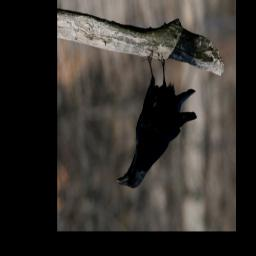Crow: (116, 48, 197, 191)
